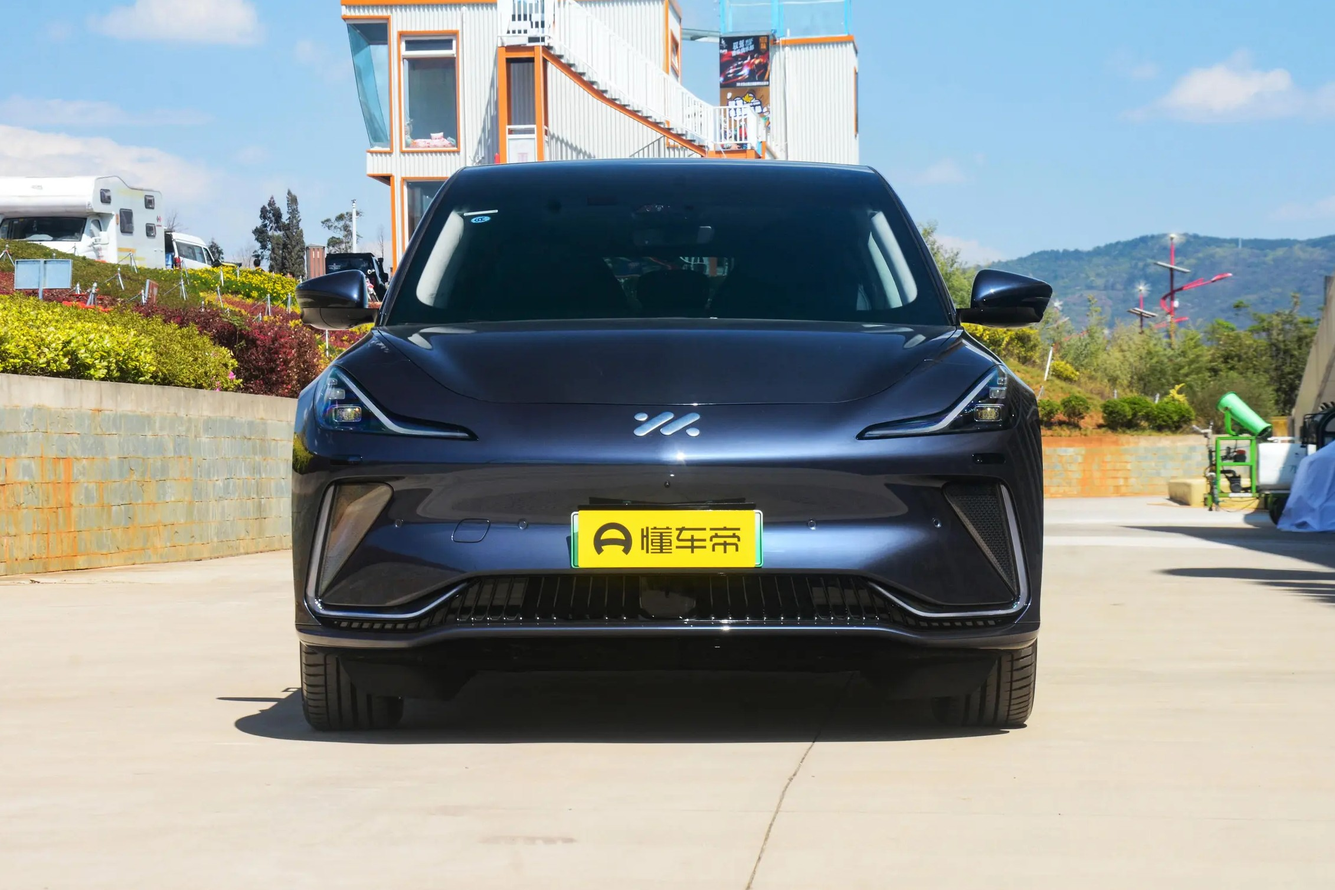IM: (634, 412, 700, 436)
